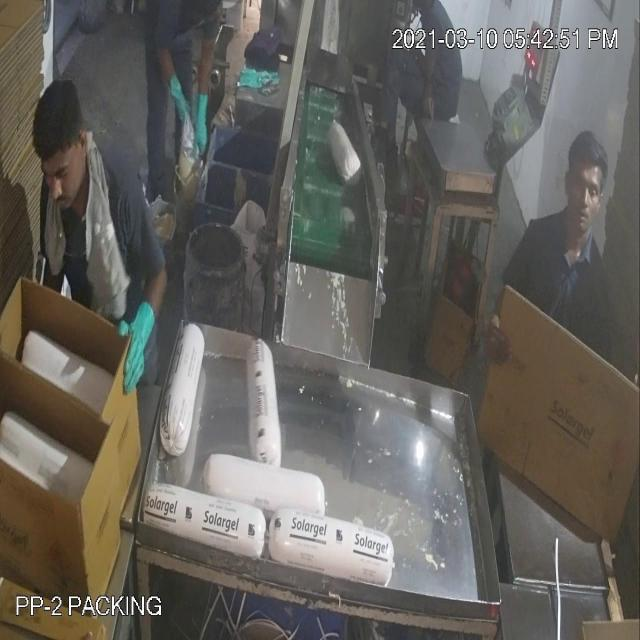Gloves: (24, 89, 204, 356)
